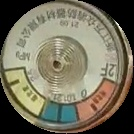needle: (44, 86, 53, 122)
red: (77, 78, 119, 124), (43, 100, 80, 128)
yellow: (4, 69, 46, 118)
